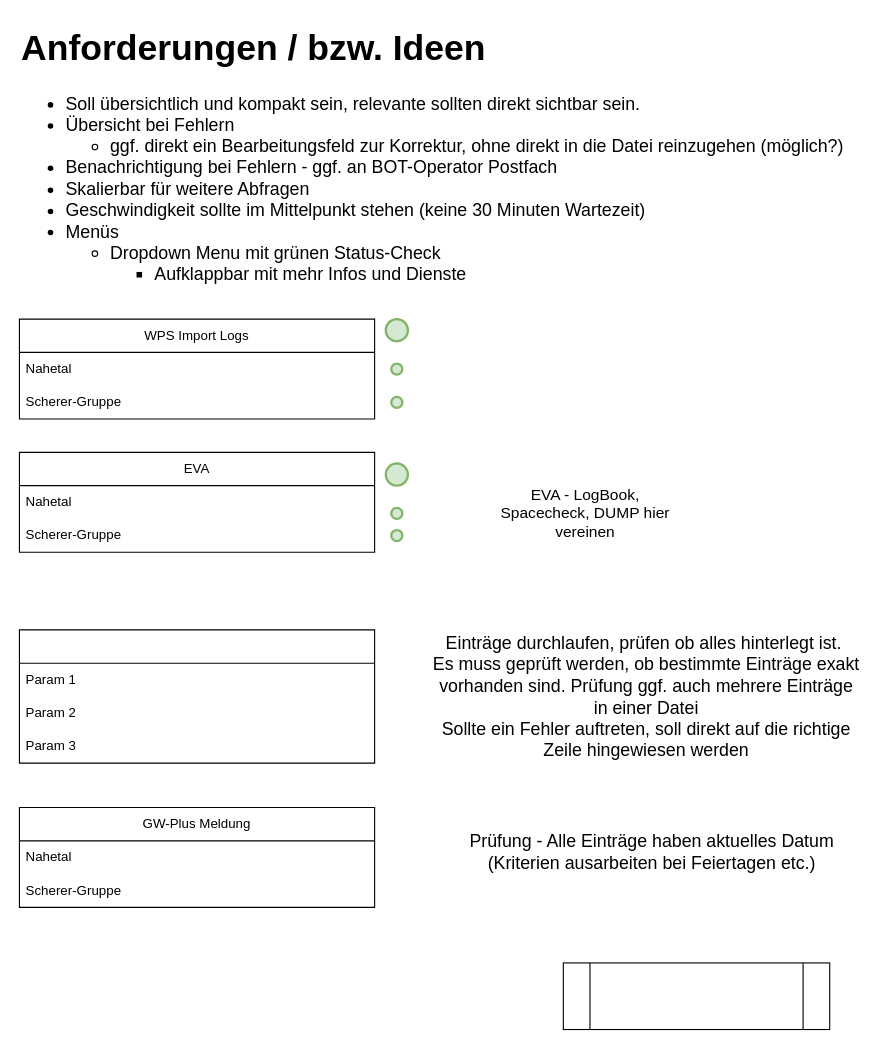
This 882x1049 diagram has some shape labels left out. The shapes that lost their labels are listed below. From the top down, each one's box as (x1, y1, x2, y2) in pixels, then its label:
(18, 629, 375, 763): EVA Einträge Excel
(562, 962, 830, 1030): ggf. Email Benachrichtigungen bei Fehlern oder eine tägliche Zusammenfassung
